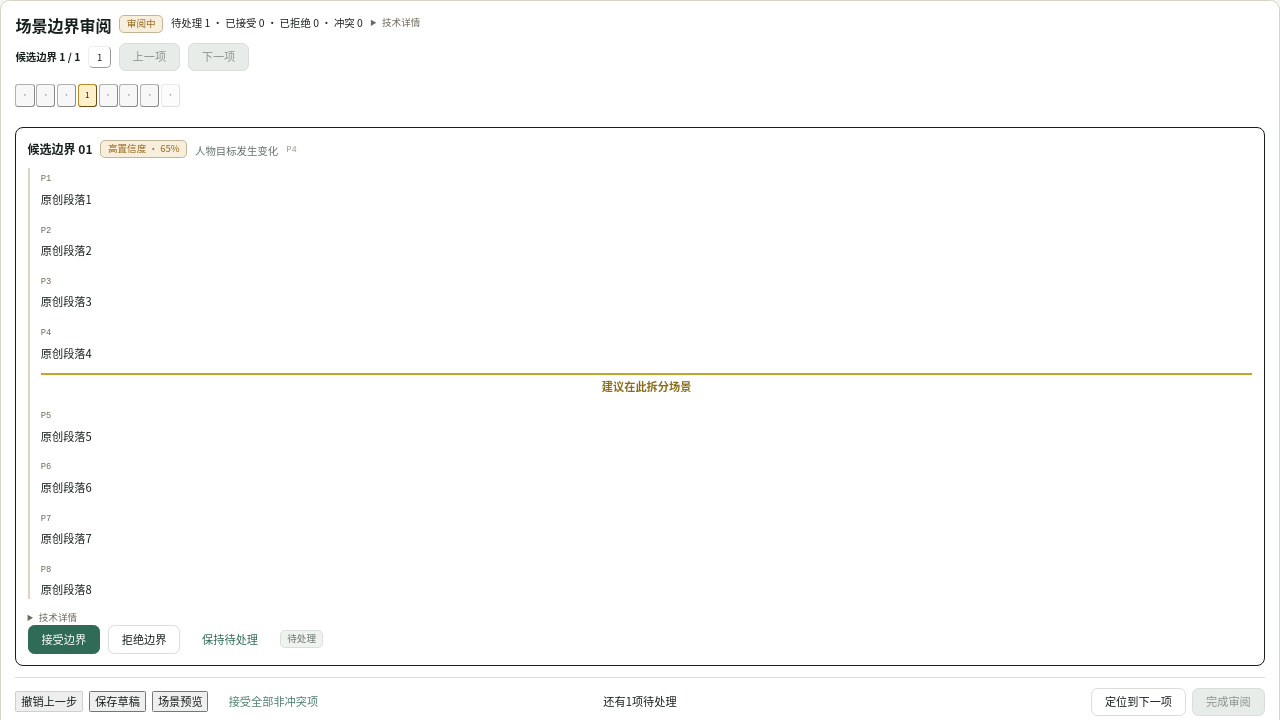
Test: 场景边界审阅 › 支持撤销和保存草稿
Click the button "接受边界".
click(64, 639)  # box [28,625,100,654]
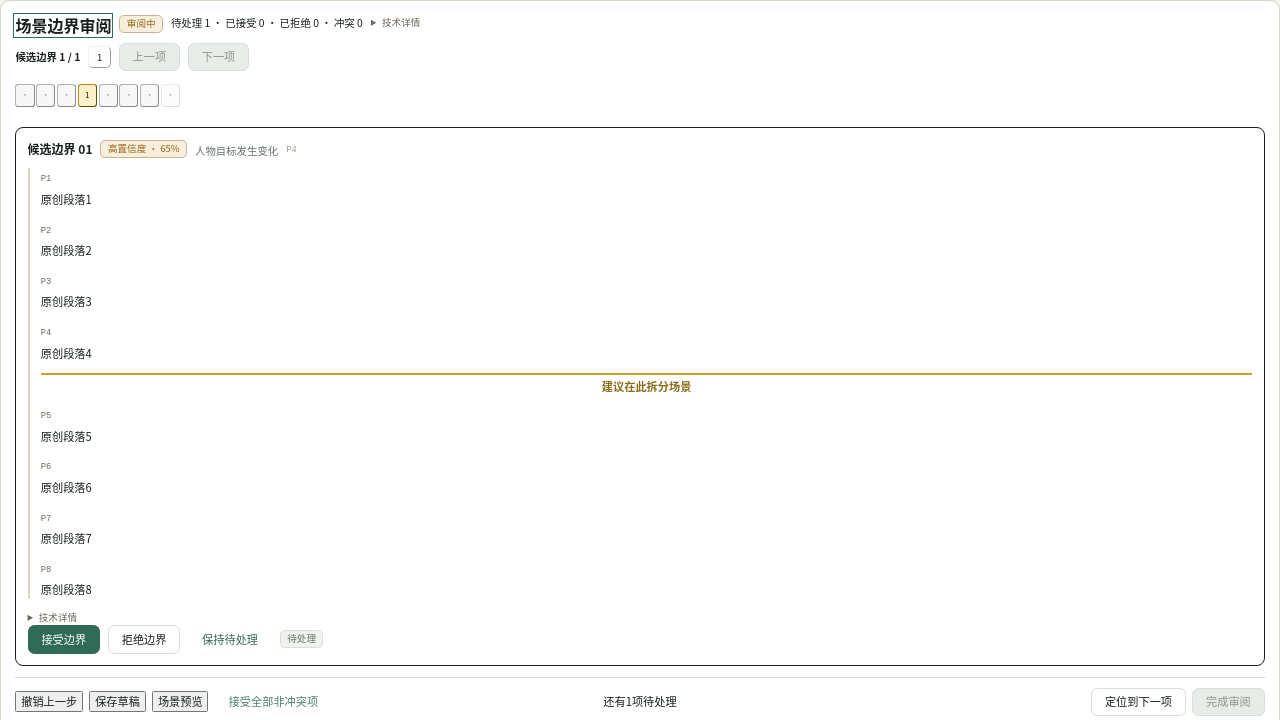
Click the button "撤销上一步".
click(49, 702)  # box [15,692,83,712]
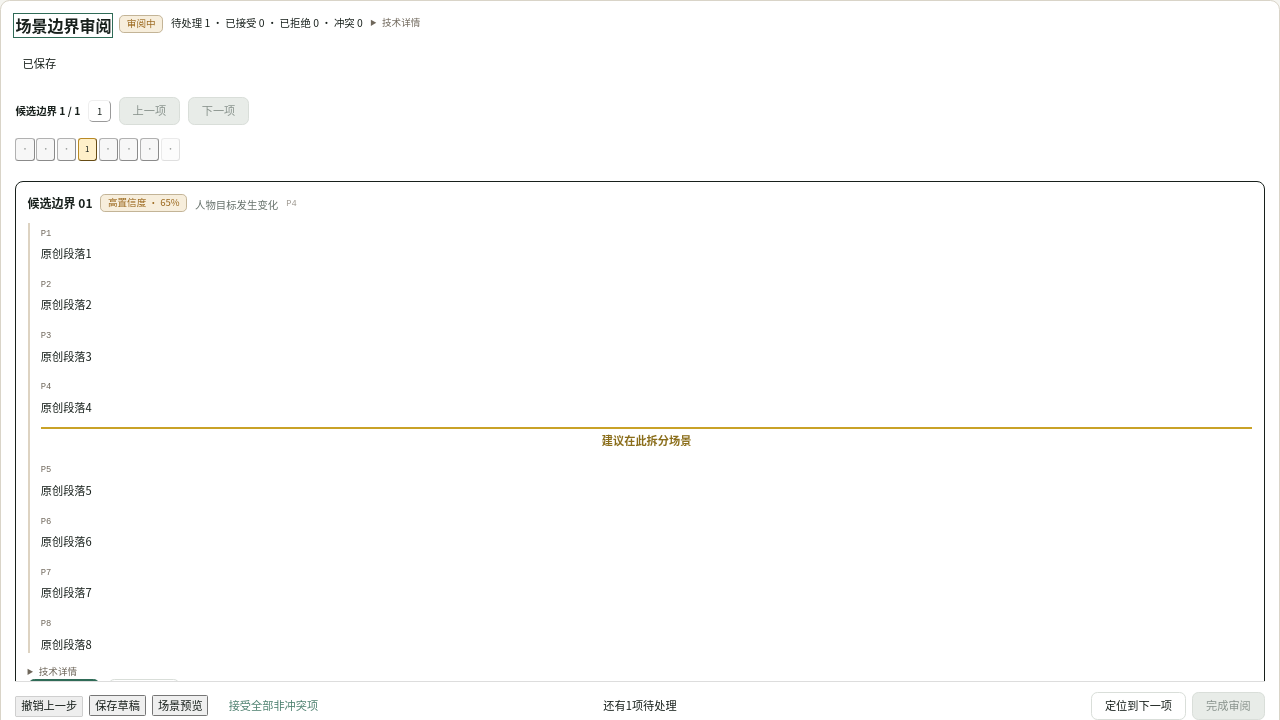
Click the button "保存草稿".
click(118, 706)  # box [89,695,146,716]
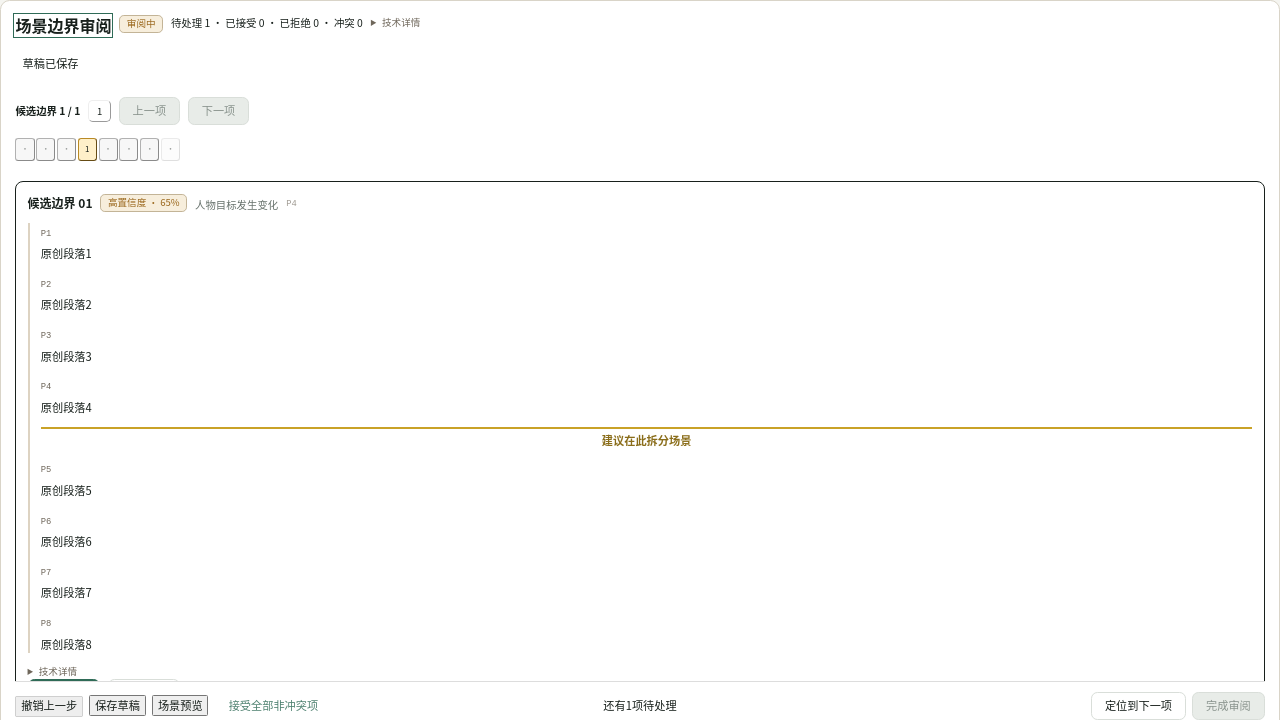
expect the text "草稿已保存" is shown: met, box [23,55,79,71]
